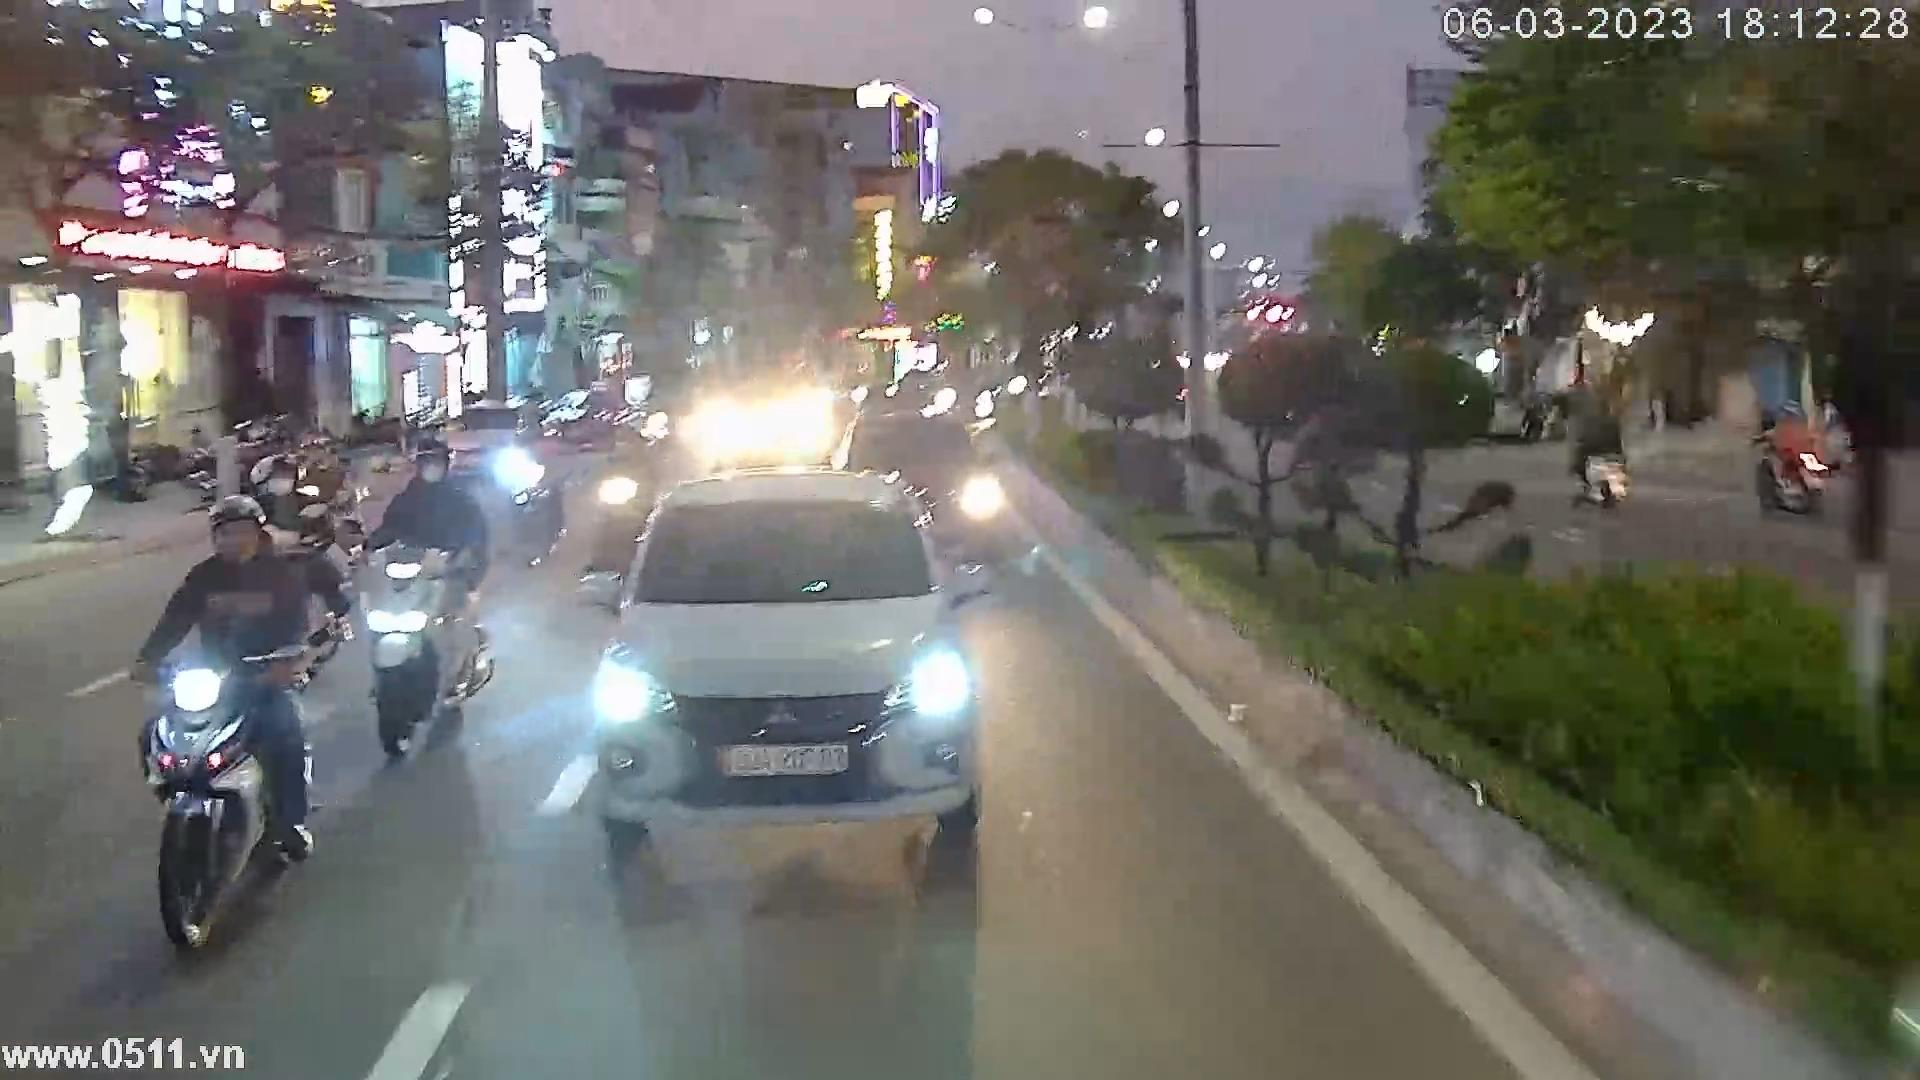car: (574, 467, 994, 851), (818, 405, 1001, 588)
motorcycle: (131, 487, 359, 965), (348, 434, 496, 770), (572, 414, 661, 580), (496, 405, 568, 574), (1746, 394, 1833, 522), (1559, 398, 1638, 513)
